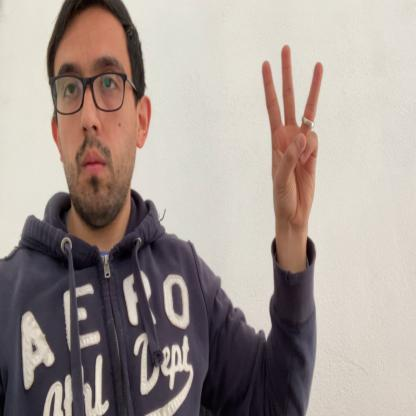W: (262, 44, 322, 234)
